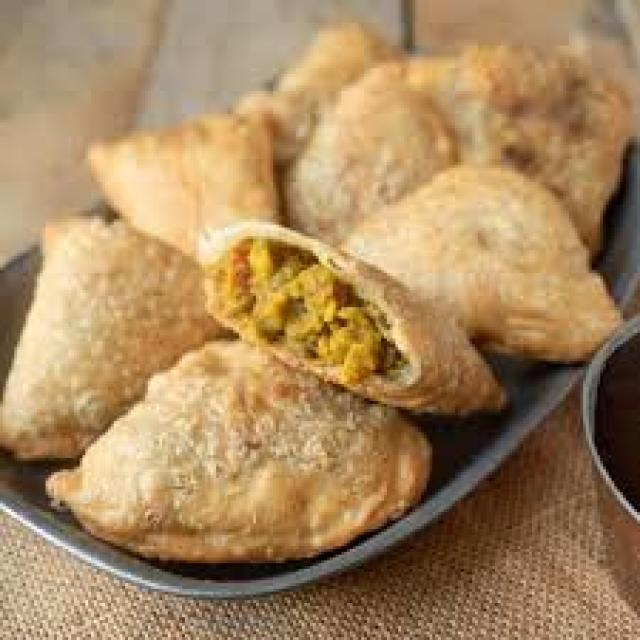SAMOSA: (56, 331, 431, 557), (346, 165, 629, 361), (220, 229, 508, 416), (0, 218, 213, 465), (87, 110, 280, 258), (291, 66, 460, 234), (238, 16, 387, 139)
